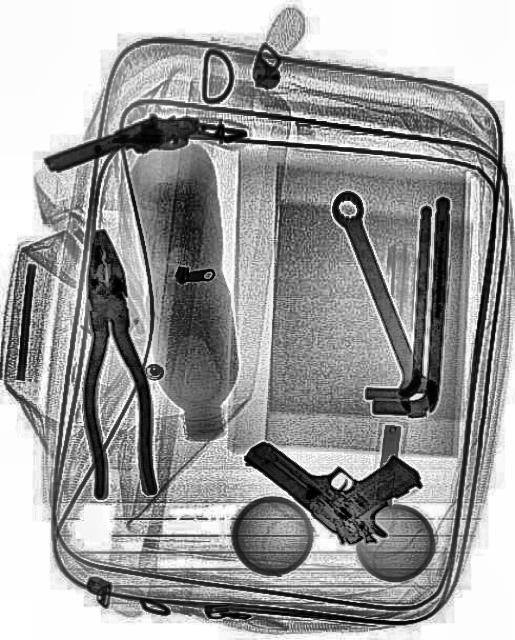Gun: (242, 368, 428, 566), (41, 101, 248, 172)
Pliers: (66, 225, 158, 501)
Wrench: (324, 182, 444, 422)
